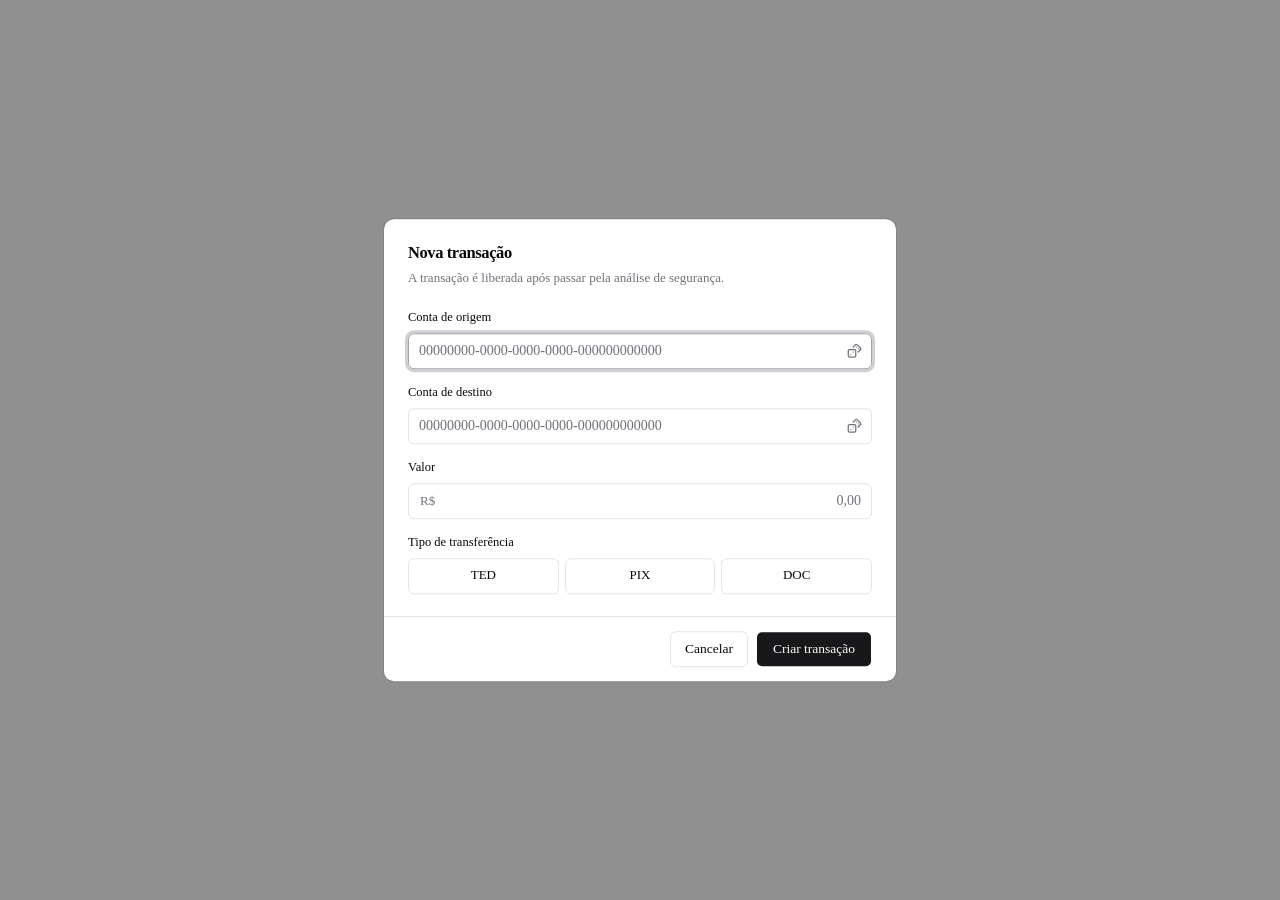
Test: NewTransactionDialog › mostra erros sem campo (indisponibilidade) num alerta e mantem o formulario
Type "3f2b1d3e-8c4a-4f6e-9a1b-2c3d4e5f6a7b" into the dropdown labelled "Conta de origem" at x=640, y=351, box [408,333,872,369]
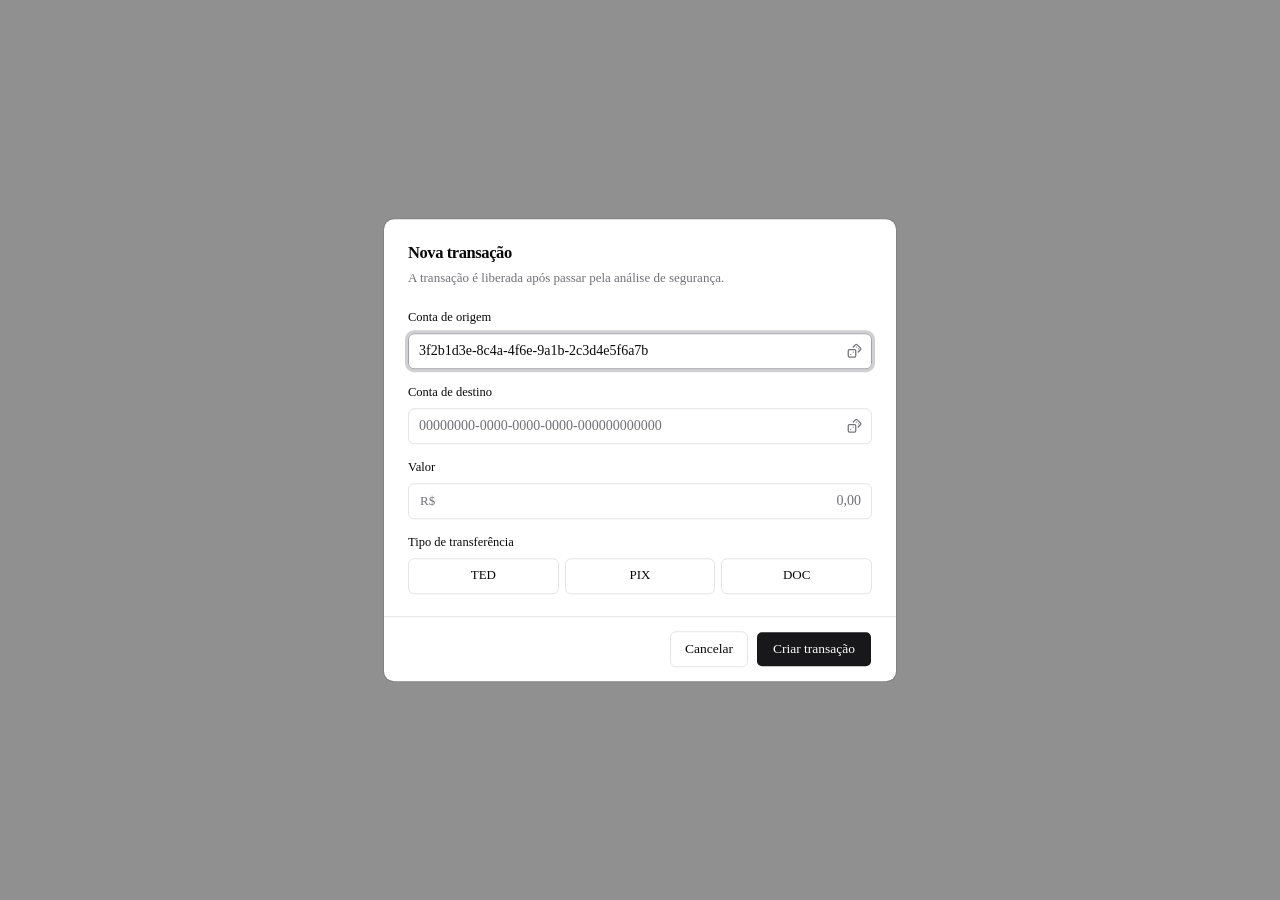
Type "9a8b7c6d-5e4f-4a3b-8c2d-1e0f9a8b7c6d" into the dropdown labelled "Conta de destino" at x=640, y=426, box [408,408,872,444]
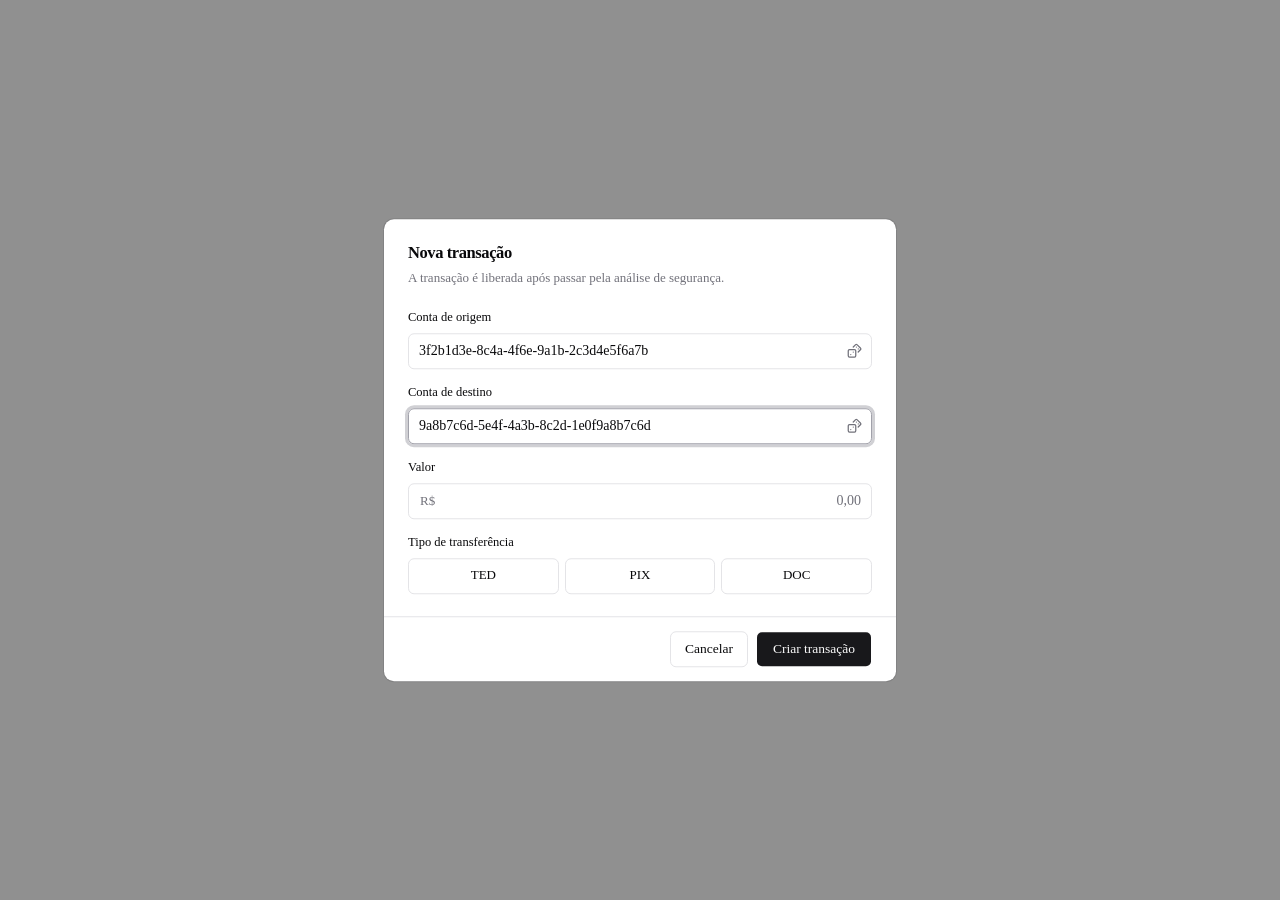
Click the radio button labelled "PIX" at x=640, y=576, box [565,558,715,594]
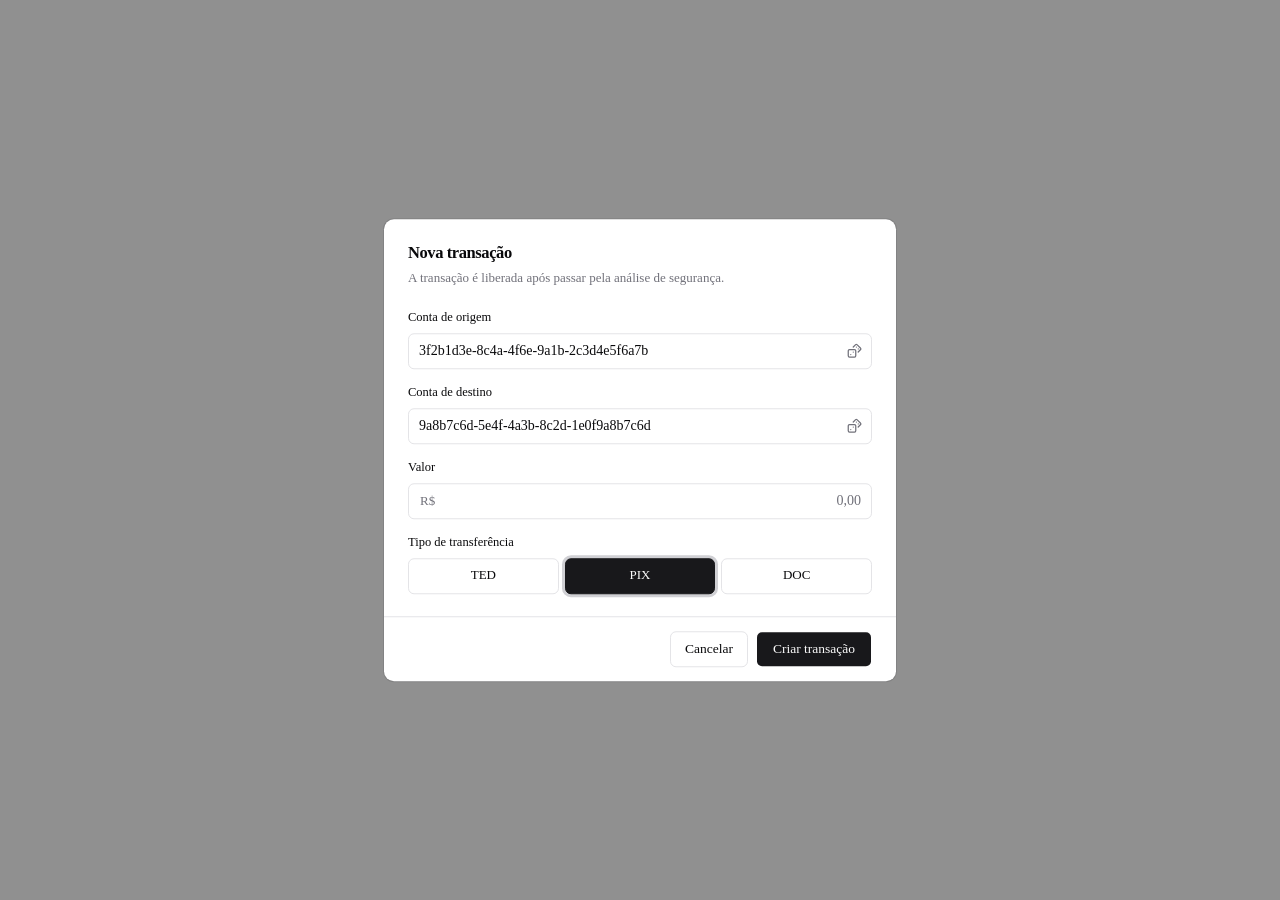
Type "120,50" into the field labelled "Valor" at x=640, y=501, box [408,483,872,519]
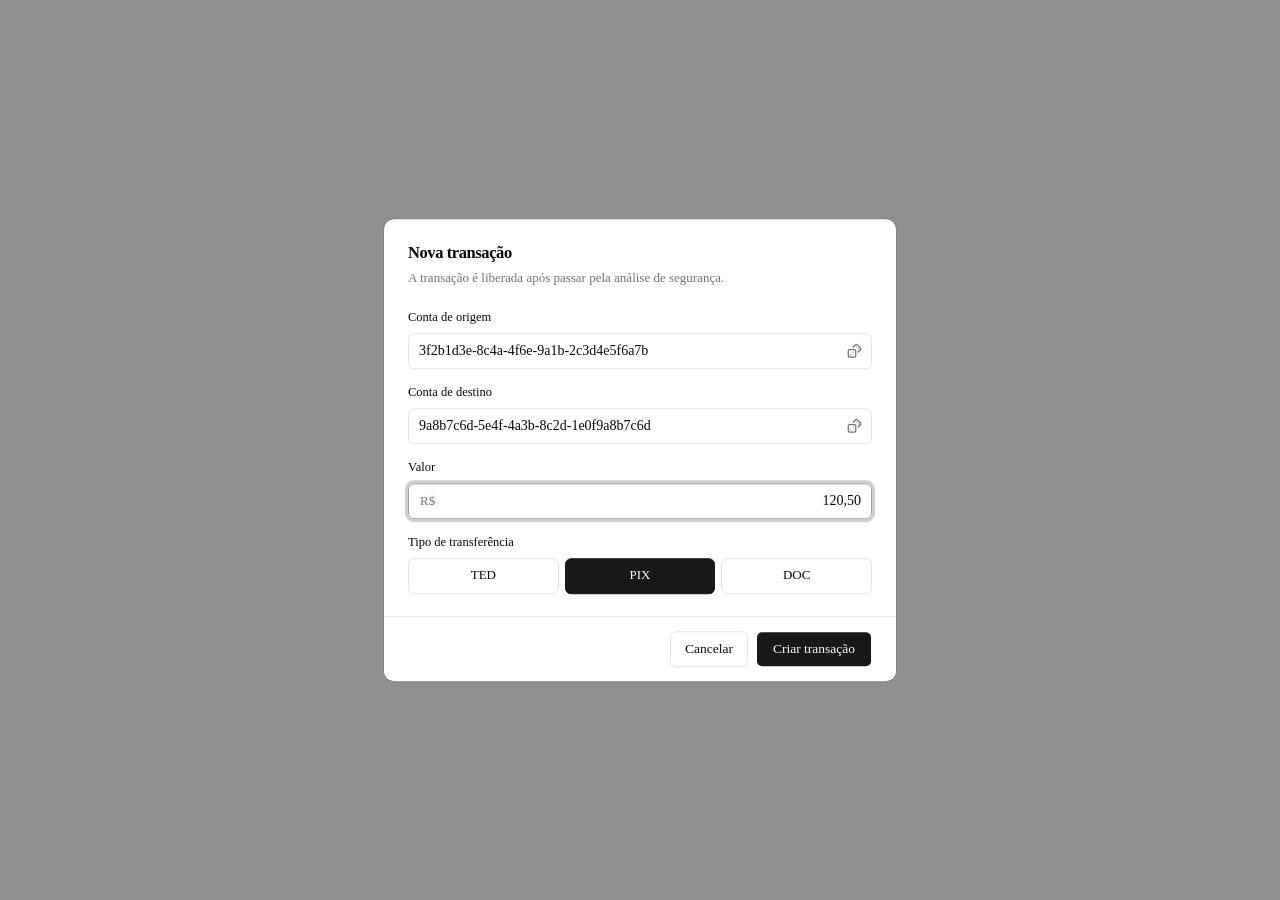
Click the button "Criar transação" at x=814, y=649, box [756,631,872,667]
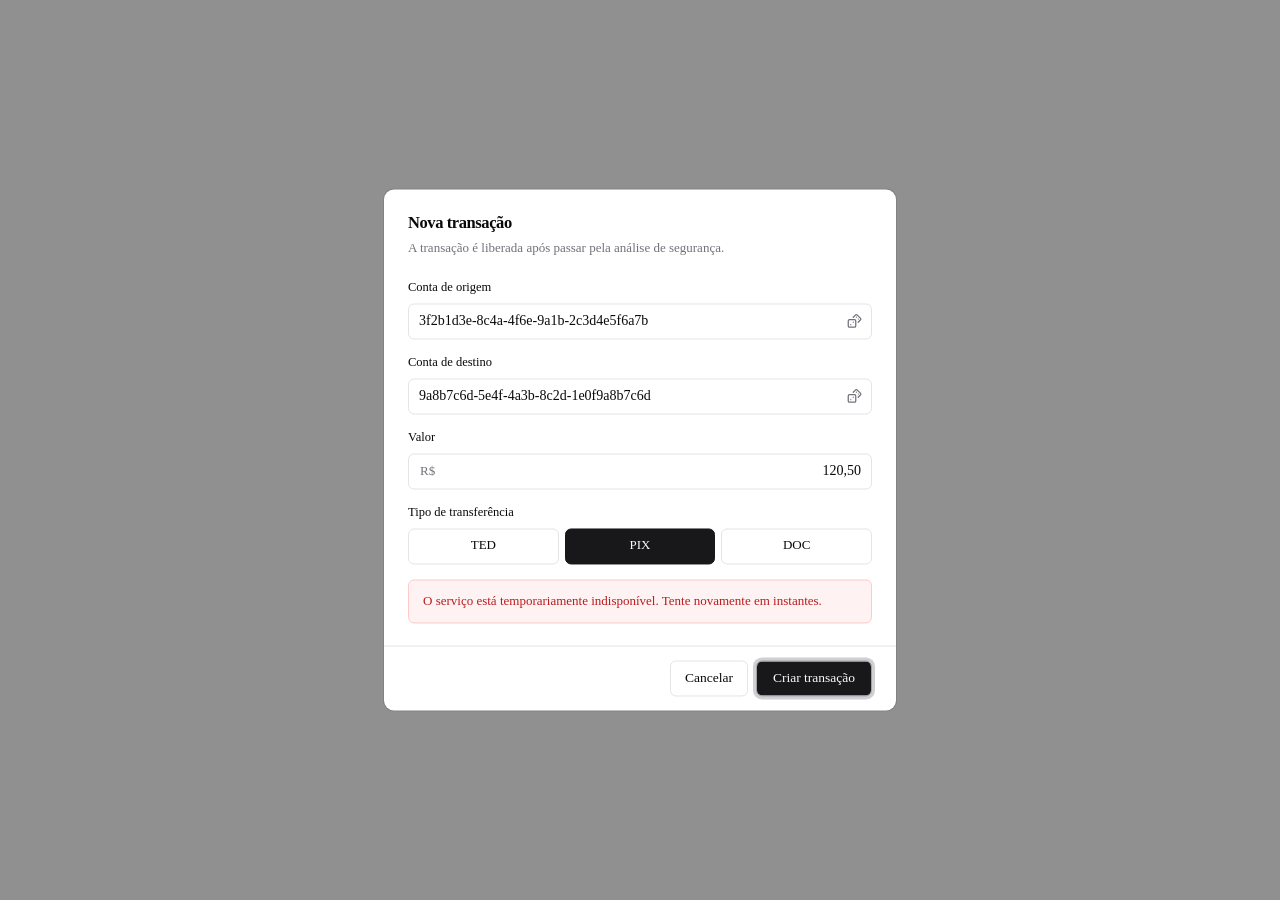
Check: the button "Criar transação" is enabled, box [756,660,872,696]
Check: the message shows "temporariamente indisponível", box [423,593,822,608]
